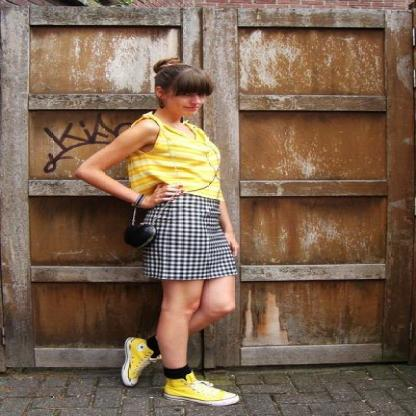bag: (121, 194, 157, 247)
shirt: (128, 112, 224, 204)
shoe: (122, 338, 236, 405)
skirt: (129, 192, 239, 282)
